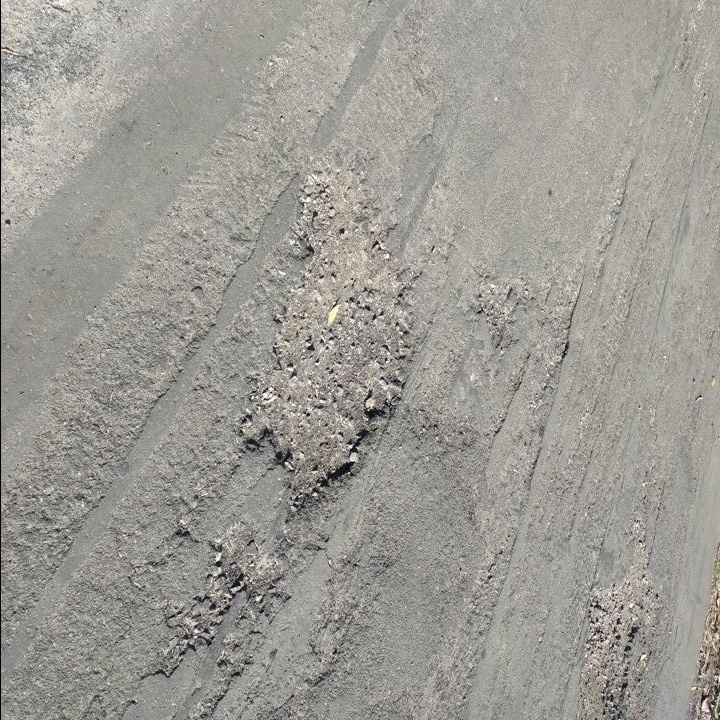pothole: (233, 147, 429, 518), (579, 511, 669, 718), (211, 513, 290, 619), (472, 268, 521, 353)
